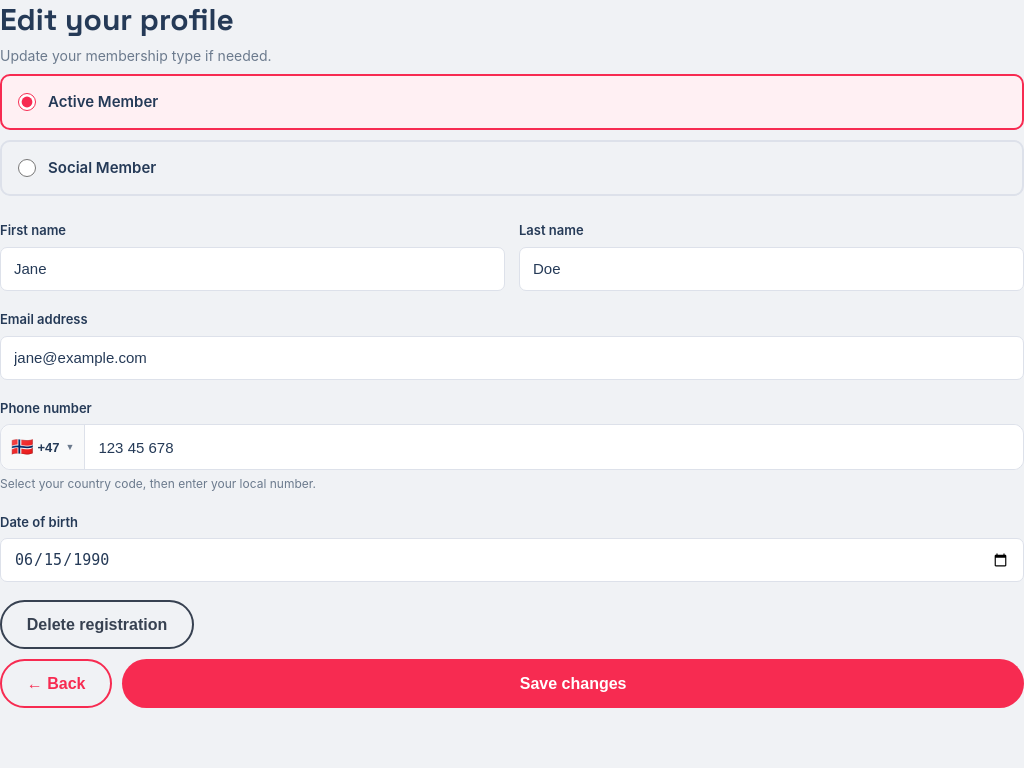
ManageRegistration — delete modal (edit mode) › opens the confirmation modal when Delete is clicked
Click the button "Delete registration": x=97, y=625 [0,600,194,649]
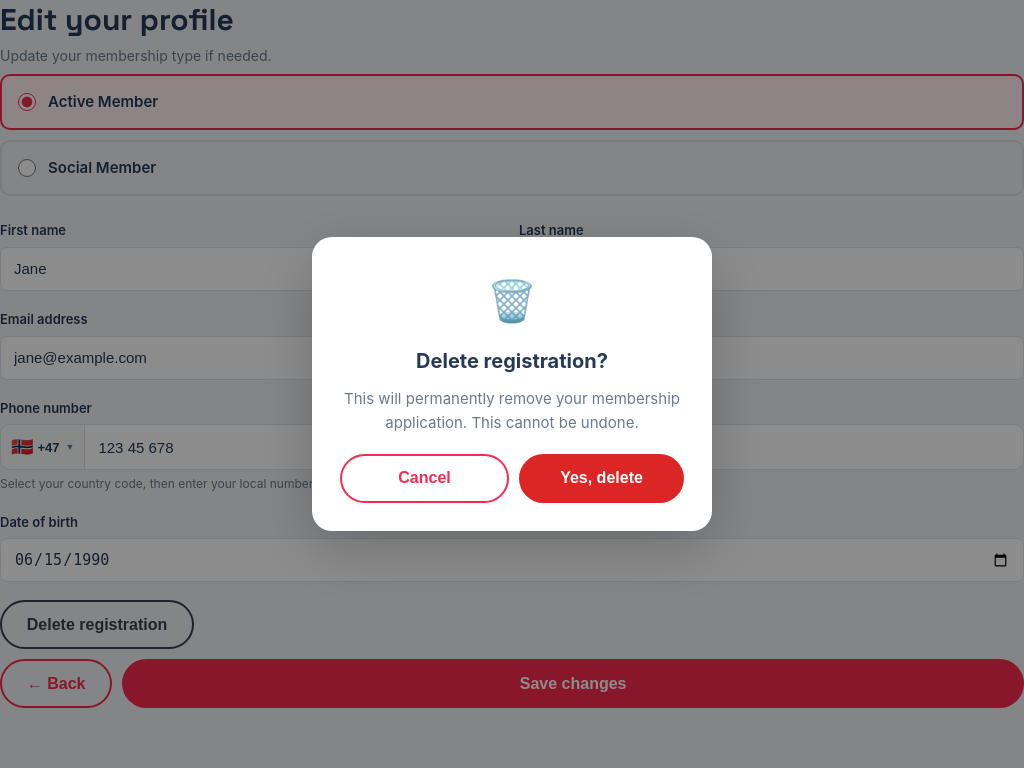
Expected: the dialog is shown
Expected: the heading "Delete registration?" is shown, [416,349,608,373]
